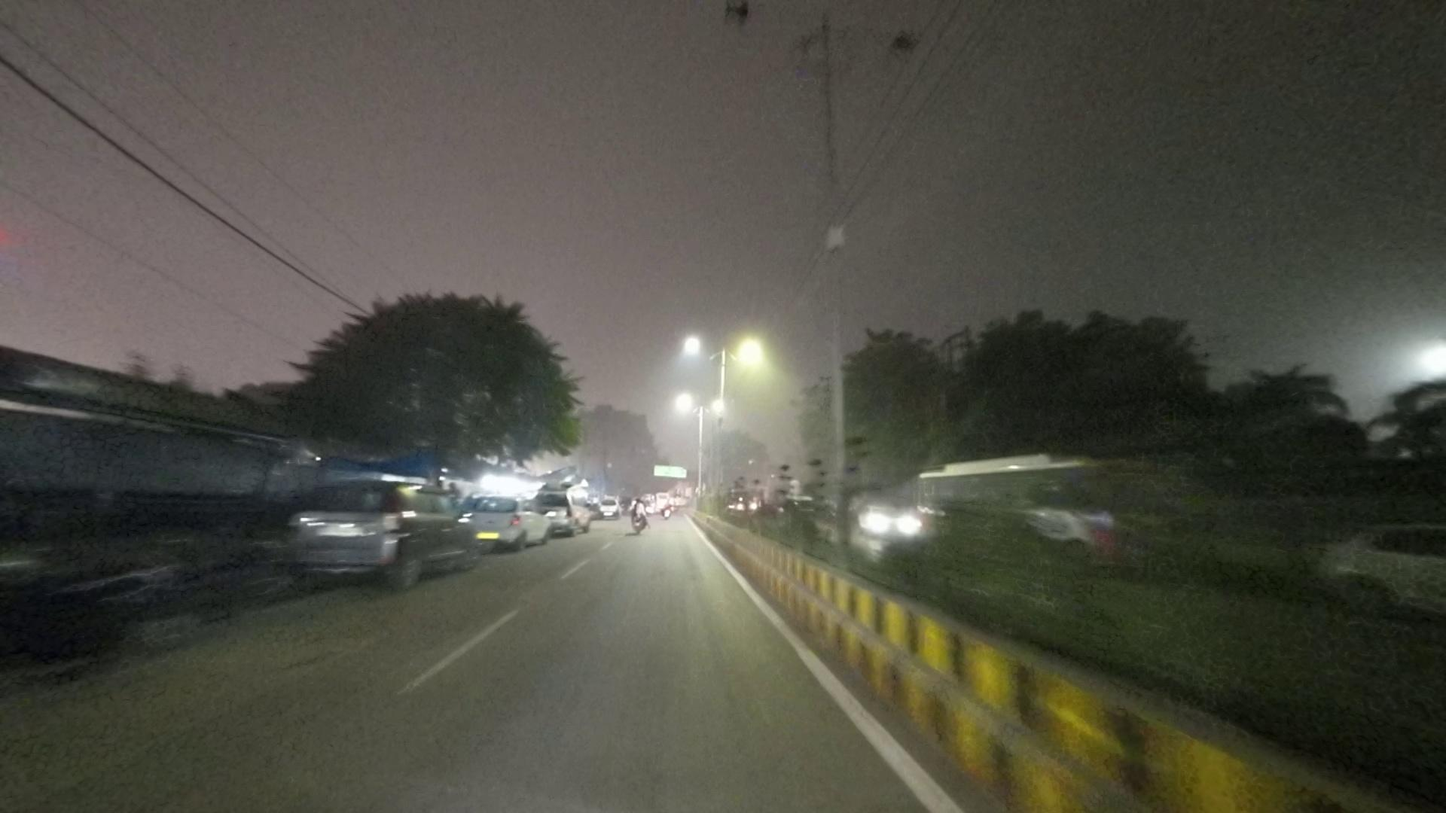streetlight: (829, 20, 924, 58), (722, 1, 824, 32)
